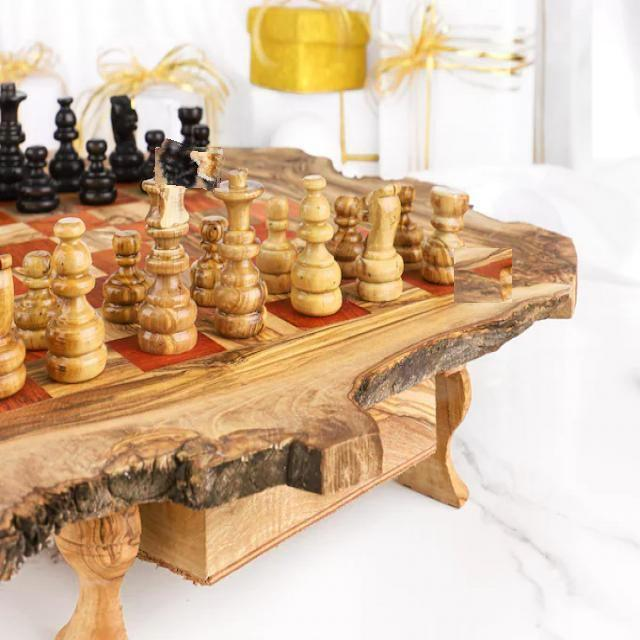chess-table-corners: (454, 248, 512, 303), (156, 142, 223, 188)
